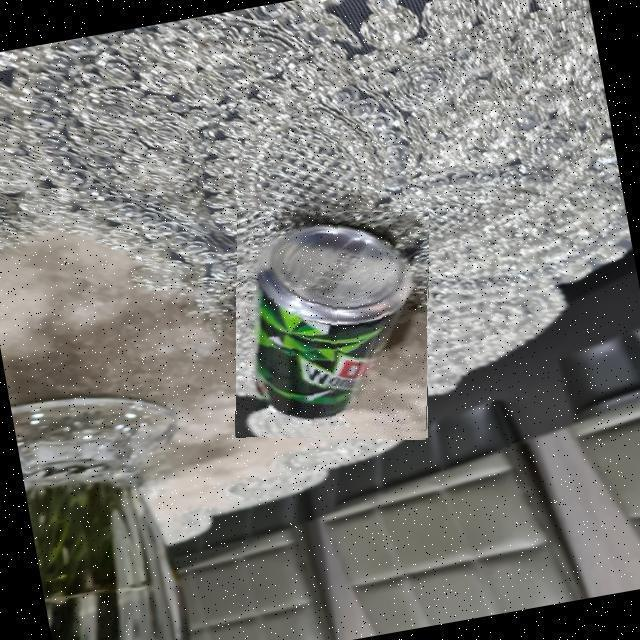recyclable: (236, 212, 429, 439)
